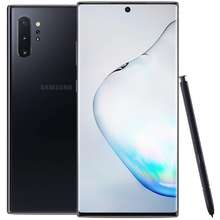Phone: (75, 1, 182, 220), (4, 1, 82, 220)
